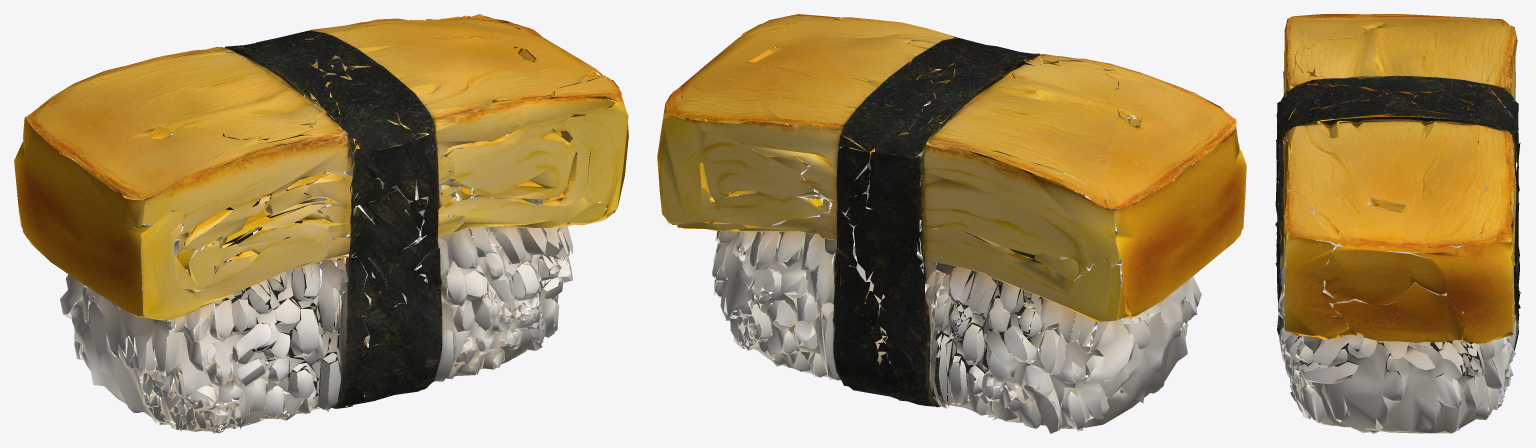
Rendered from tamago.glb.
The picture shows the model from 3 angles, left to right: view 1: azimuth 30°, elevation 25°; view 2: azimuth 150°, elevation 25°; view 3: azimuth 270°, elevation 25°; orthographic projection. The views are drawn at different scales.
Parts seen in each view (by area): view 1: tamago; view 2: tamago; view 3: tamago.
Boxes of the visible parts, x1,y1,x2,y2 form: tamago: [14, 14, 628, 433]; tamago: [657, 14, 1246, 433]; tamago: [1275, 14, 1520, 433].
Size of the model in its own units: 1 by 0.5732 by 0.476.
1 material, 1 textured.
